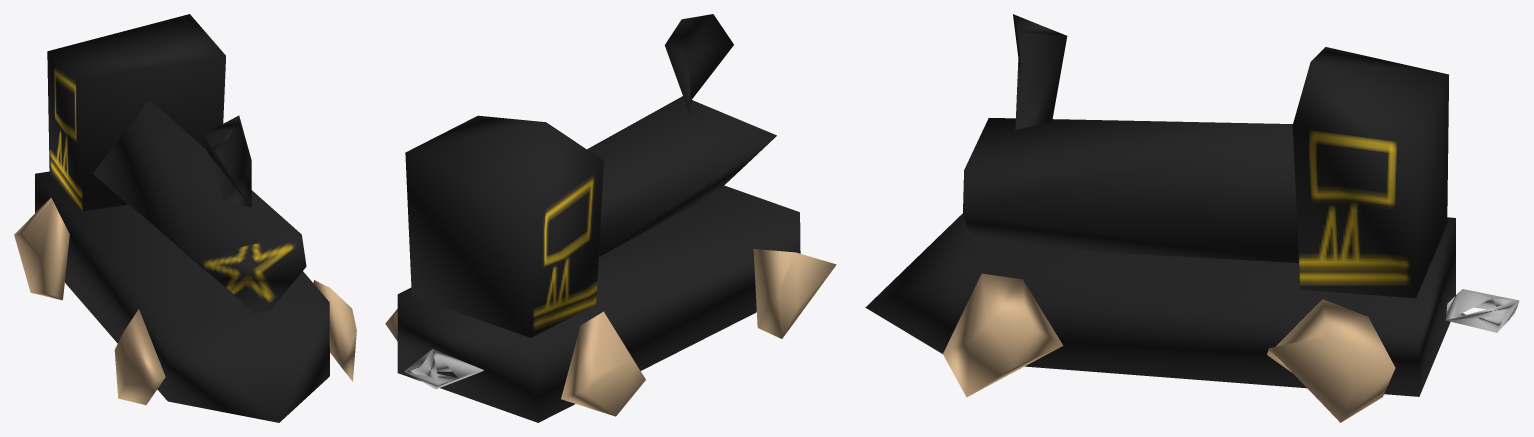
Rendered from nero_LOD2.fbx.
The picture shows the model from 3 angles, left to right: view 1: azimuth 30°, elevation 25°; view 2: azimuth 150°, elevation 25°; view 3: azimuth 270°, elevation 25°; orthographic projection. The views are drawn at different scales.
Parts seen in each view (by area): view 1: inizio; view 2: inizio; view 3: inizio.
Part boxes in pixels (<box>): inizio: <box>14,14,356,422</box>; inizio: <box>385,14,836,422</box>; inizio: <box>865,14,1519,422</box>.
Size of the model in its own units: 339 by 339 by 616.
1 material, 1 textured.
